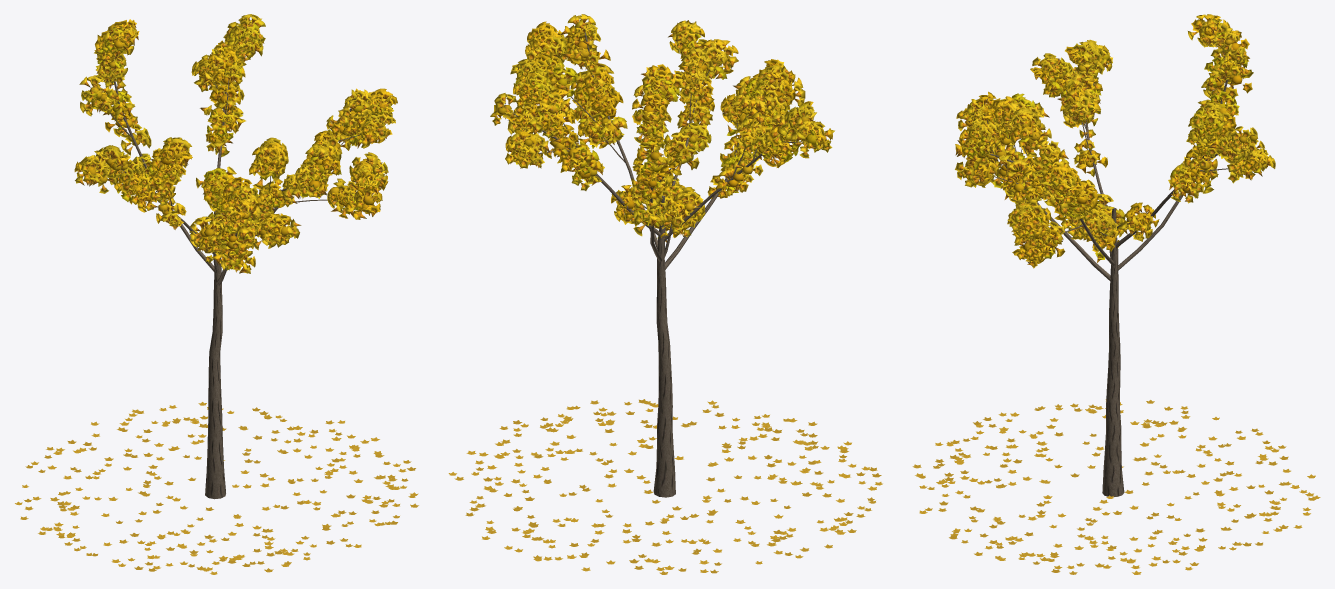
Rendered from ipe_amarelo_10anos.glb.
The picture shows the model from 3 angles, left to right: view 1: azimuth 30°, elevation 25°; view 2: azimuth 150°, elevation 25°; view 3: azimuth 270°, elevation 25°; orthographic projection. The views are drawn at different scales.
Visible parts, largest first — view 1: Ipe_amarelo; view 2: Ipe_amarelo; view 3: Ipe_amarelo.
Boxes of the visible parts, x1,y1,x2,y2 form: Ipe_amarelo: (15,14,418,574); Ipe_amarelo: (448,14,882,574); Ipe_amarelo: (912,14,1320,574).
Bounding box in the file's own units: 2.33 × 2.82 × 2.29.
Materials: 4 (4 with a texture image).
